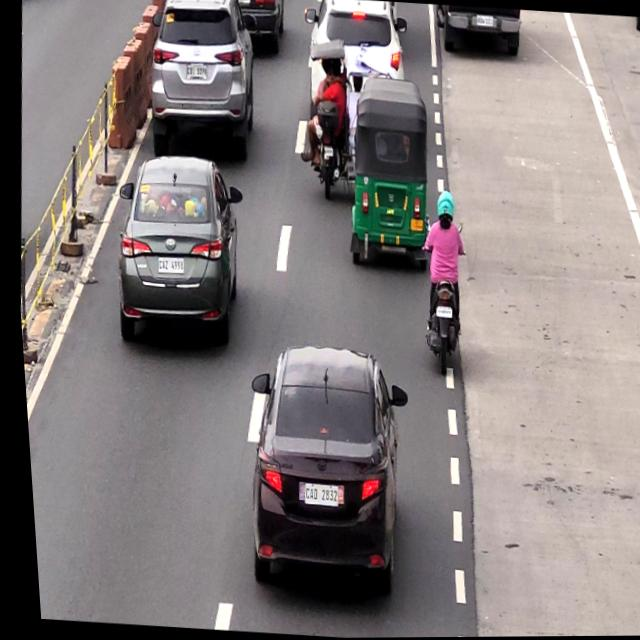Car: (237, 340, 405, 596), (103, 149, 247, 357), (138, 0, 264, 158)
License-Plate: (293, 483, 334, 510), (153, 255, 184, 277), (182, 62, 209, 79)
Motorcycle: (411, 197, 473, 375)
